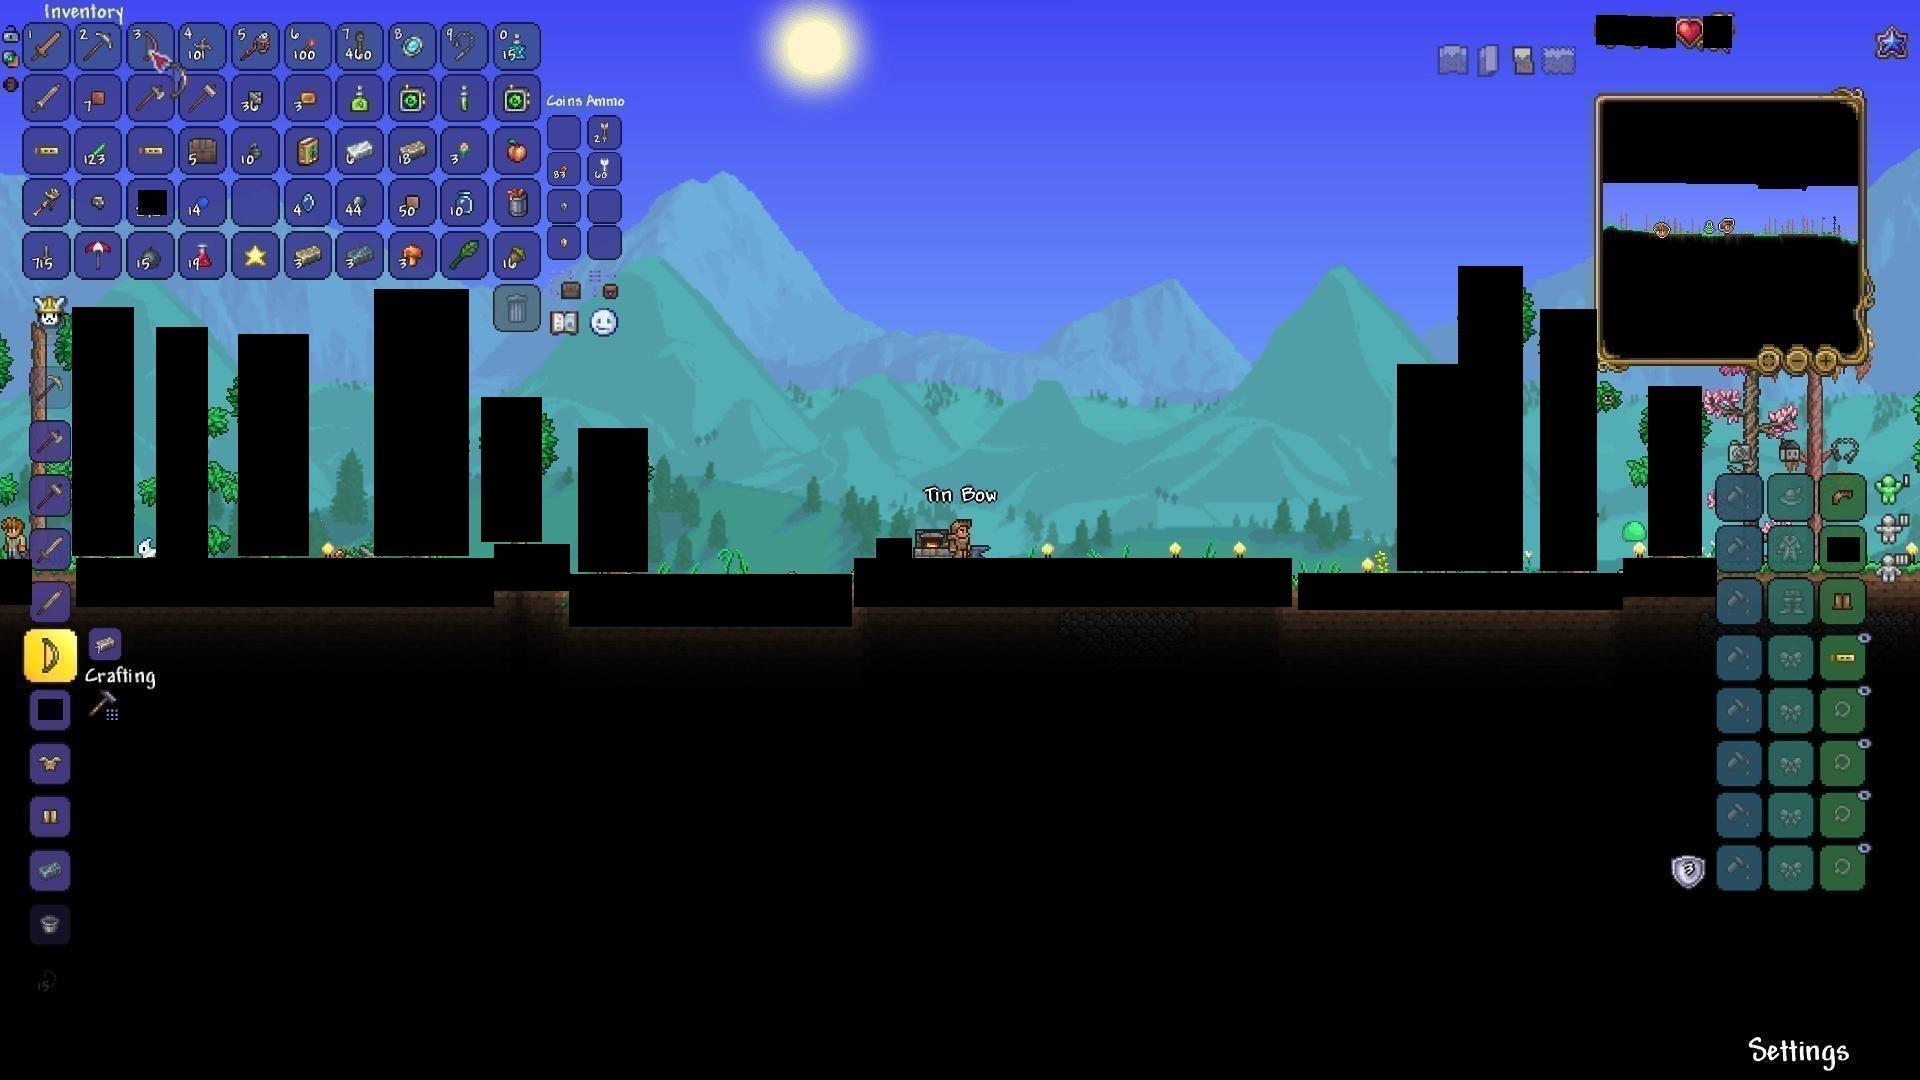breastplate: (37, 753, 63, 773)
heart: (1676, 17, 1704, 47)
helmet: (1829, 487, 1857, 508)
legs: (1830, 591, 1859, 615), (37, 806, 61, 825)
slime: (1625, 520, 1648, 545)
tree: (1709, 363, 1784, 469)
